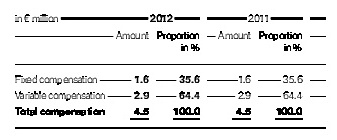table: (0, 0, 337, 140)
